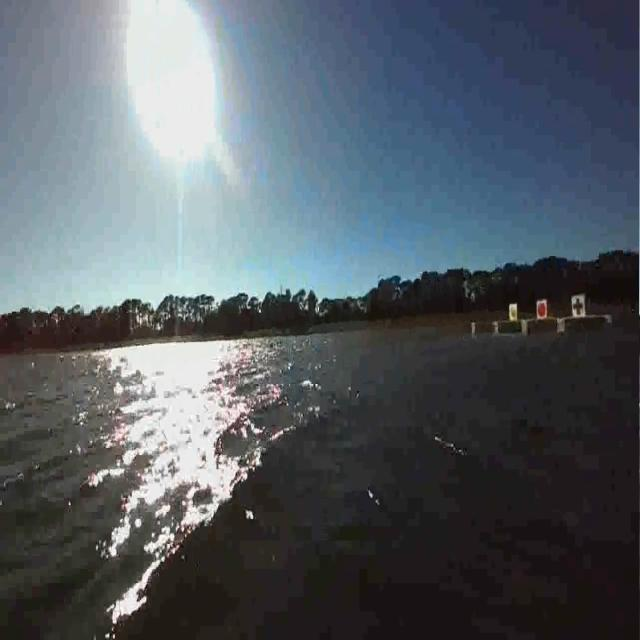yellow-duck: (511, 306, 516, 323)
